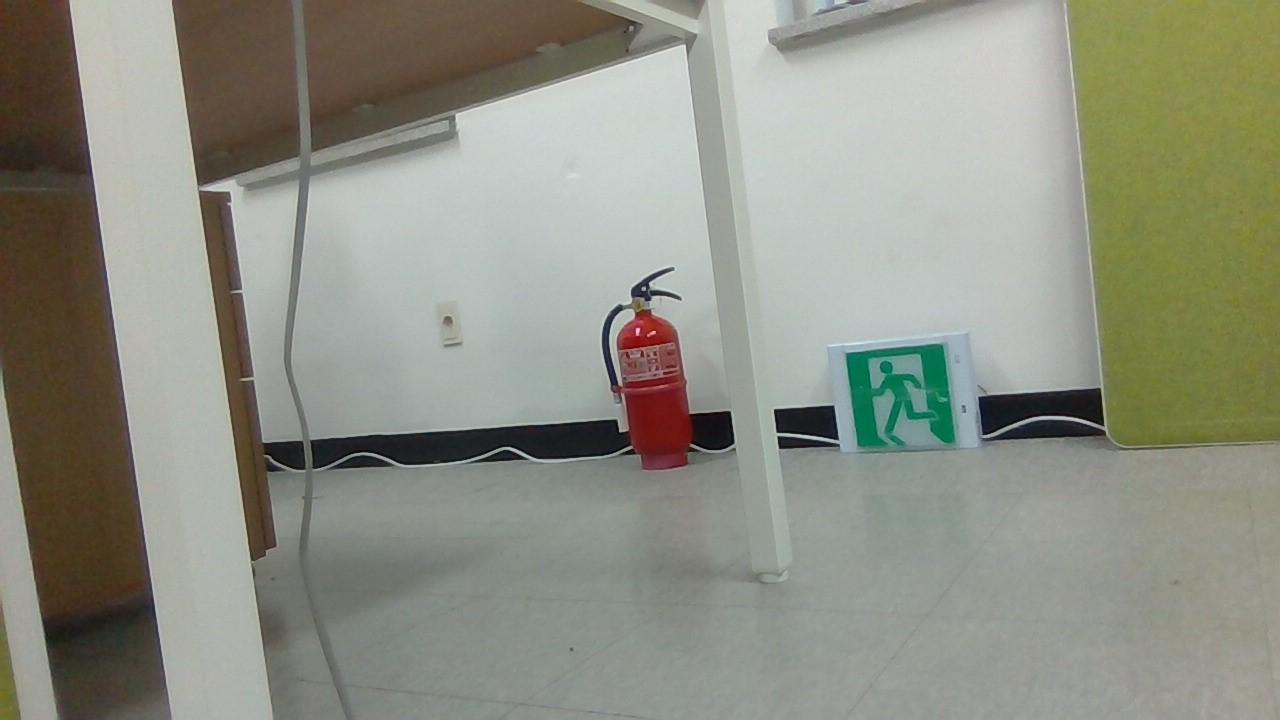emergency_exit: (826, 330, 981, 454)
